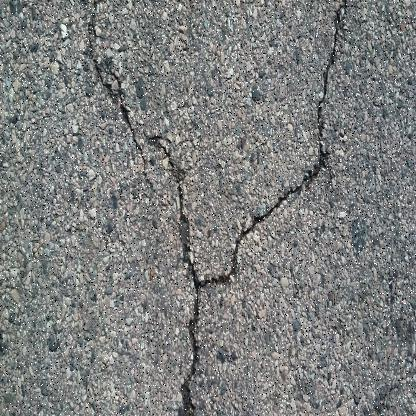Cracks: (199, 0, 351, 297), (151, 128, 204, 416), (83, 0, 148, 182)
